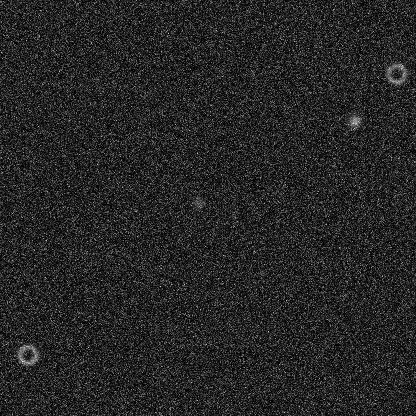Ring: (15, 342, 39, 366), (384, 61, 408, 85)
Spot: (190, 195, 206, 211), (346, 113, 362, 129)
